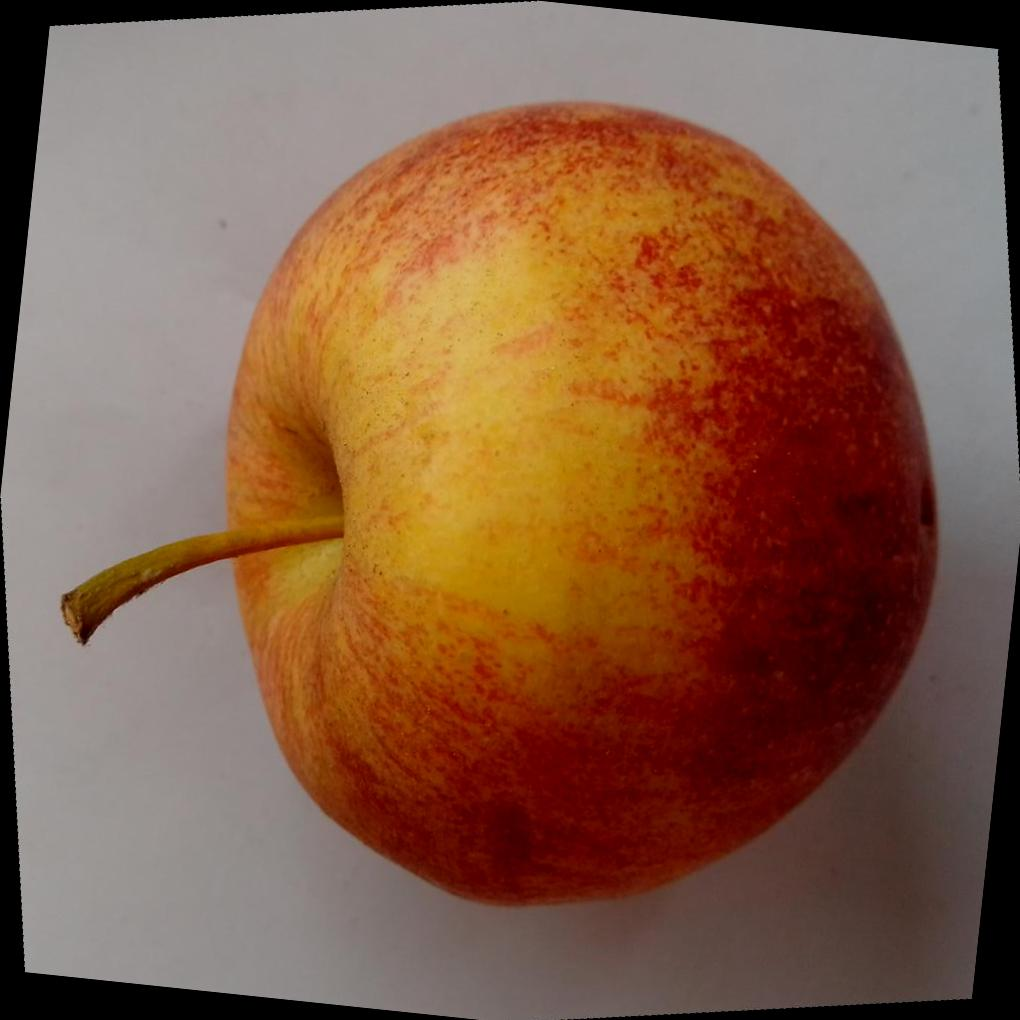FreshGuava: (53, 99, 937, 910)
